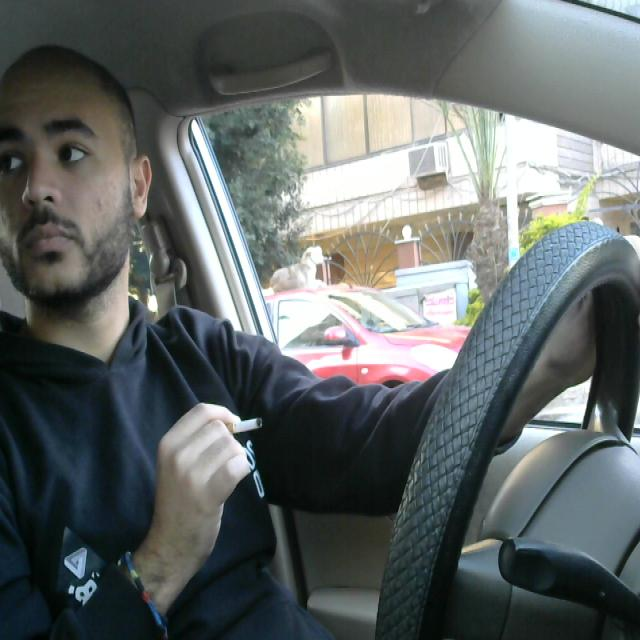smoking: (204, 412, 267, 442)
